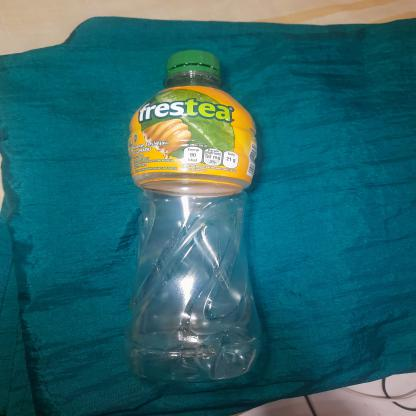bottle: (122, 49, 268, 385)
